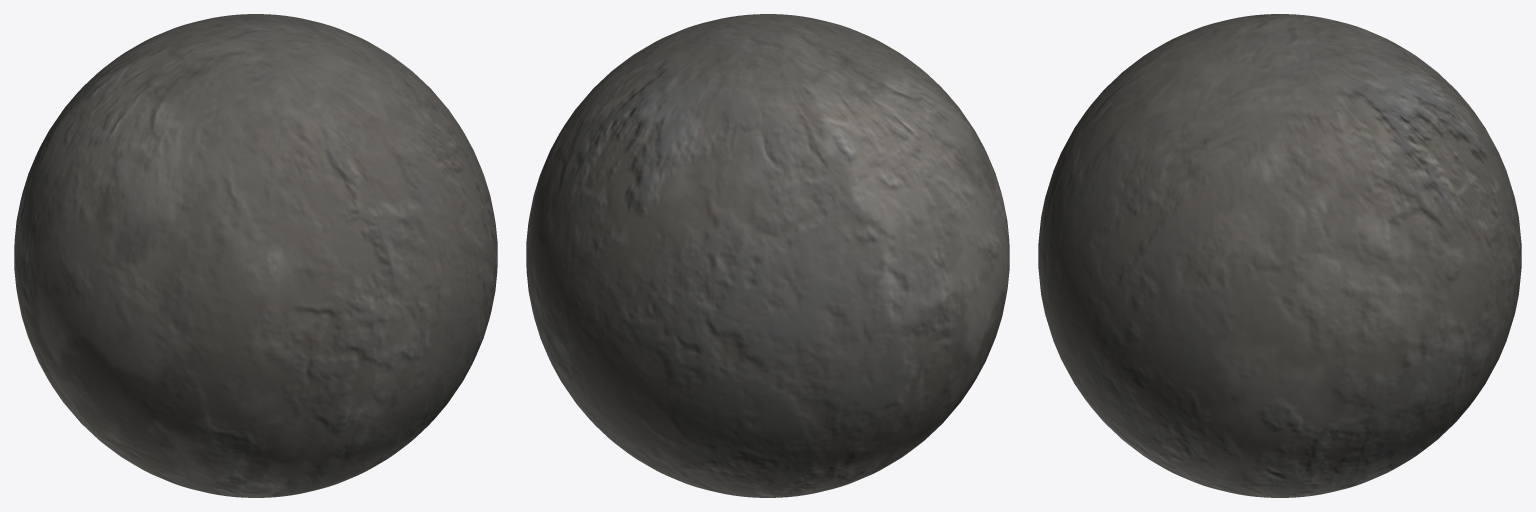
The model's file is planet4.fbx.
3 renders of one model, left to right at view 1: azimuth 30°, elevation 25°; view 2: azimuth 150°, elevation 25°; view 3: azimuth 270°, elevation 25°, orthographic.
Visible parts, largest first — view 1: planet; view 2: planet; view 3: planet.
Part boxes in pixels (<box>): planet: <box>14,14,497,497</box>; planet: <box>526,14,1009,497</box>; planet: <box>1038,14,1521,497</box>.
Size of the model in its own units: 99.8 by 100 by 99.9.
1 material, 1 textured.
